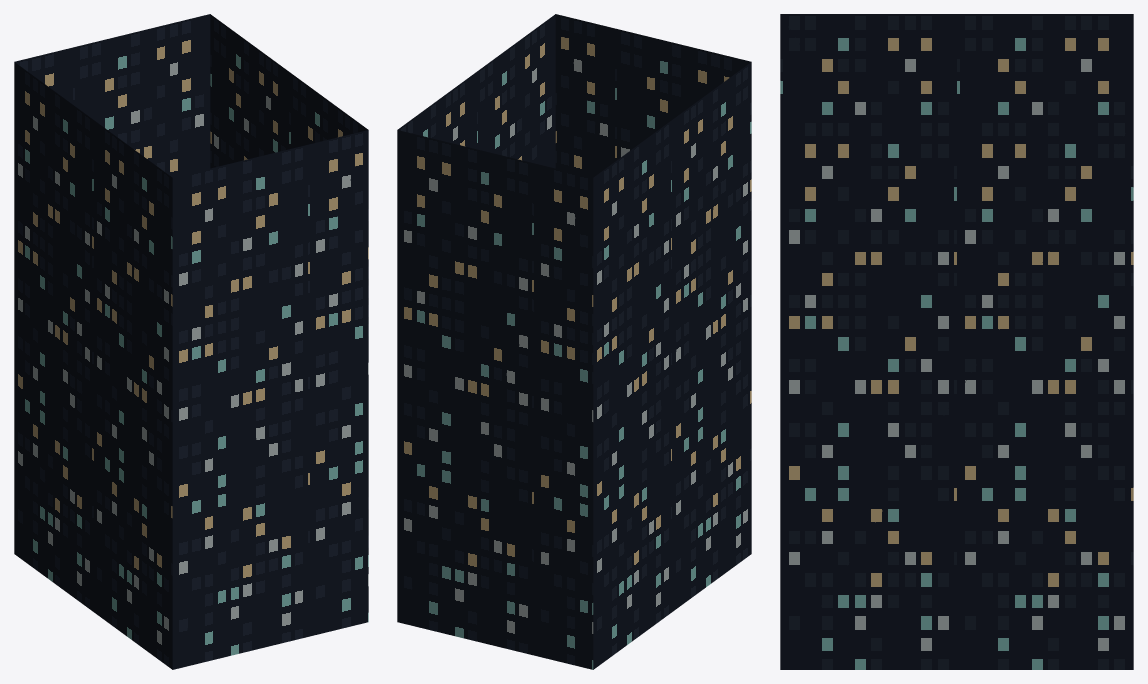
File: wangan_tower_2.glb
3 renders of one model, left to right at view 1: azimuth 30°, elevation 25°; view 2: azimuth 150°, elevation 25°; view 3: azimuth 270°, elevation 25°, orthographic. The views are drawn at different scales.
Parts seen in each view (by area): view 1: wangan_tower_2; view 2: wangan_tower_2; view 3: wangan_tower_2.
Part boxes in pixels (left/top/right/bottom): wangan_tower_2: left=14, top=14, right=368, bottom=669; wangan_tower_2: left=397, top=14, right=751, bottom=669; wangan_tower_2: left=780, top=14, right=1133, bottom=669.
Size of the model in its own units: 20 by 48 by 28.
1 material, 1 textured.
